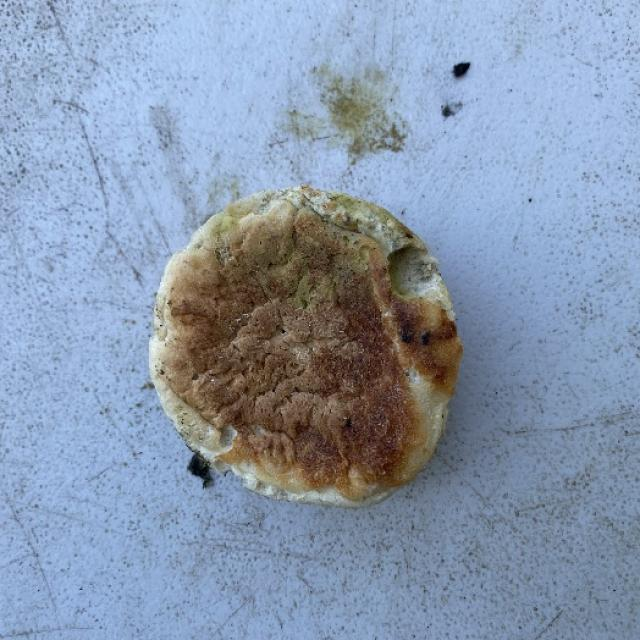organik: (150, 190, 462, 510)
